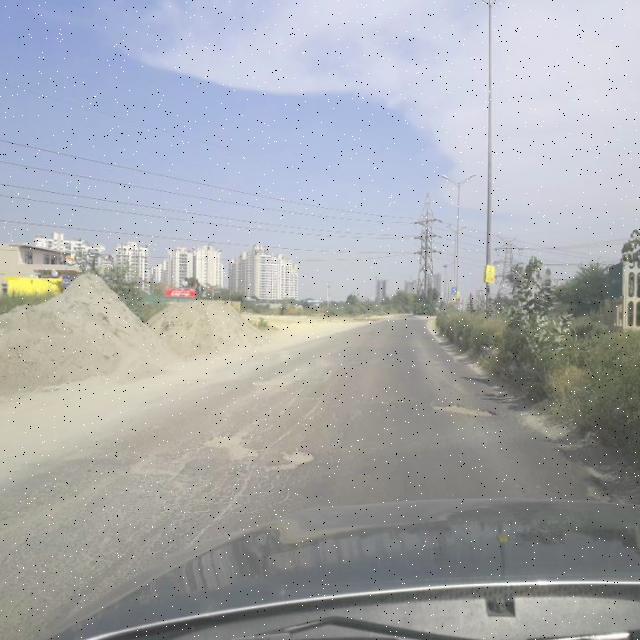D00: (188, 384, 326, 548), (334, 409, 364, 456)
D20: (4, 384, 326, 625)
D40: (426, 390, 509, 426), (262, 441, 316, 473), (129, 447, 183, 479), (202, 431, 256, 463)
